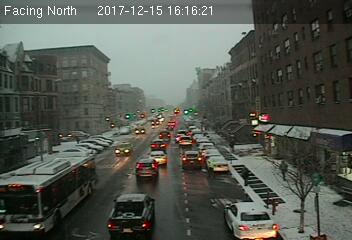bus: (1, 155, 97, 235)
car: (106, 191, 157, 237), (223, 202, 277, 240), (134, 159, 157, 178), (205, 155, 229, 173), (181, 150, 203, 169), (149, 149, 168, 165), (114, 143, 133, 155), (149, 140, 168, 151), (178, 136, 194, 147), (158, 131, 172, 142)
